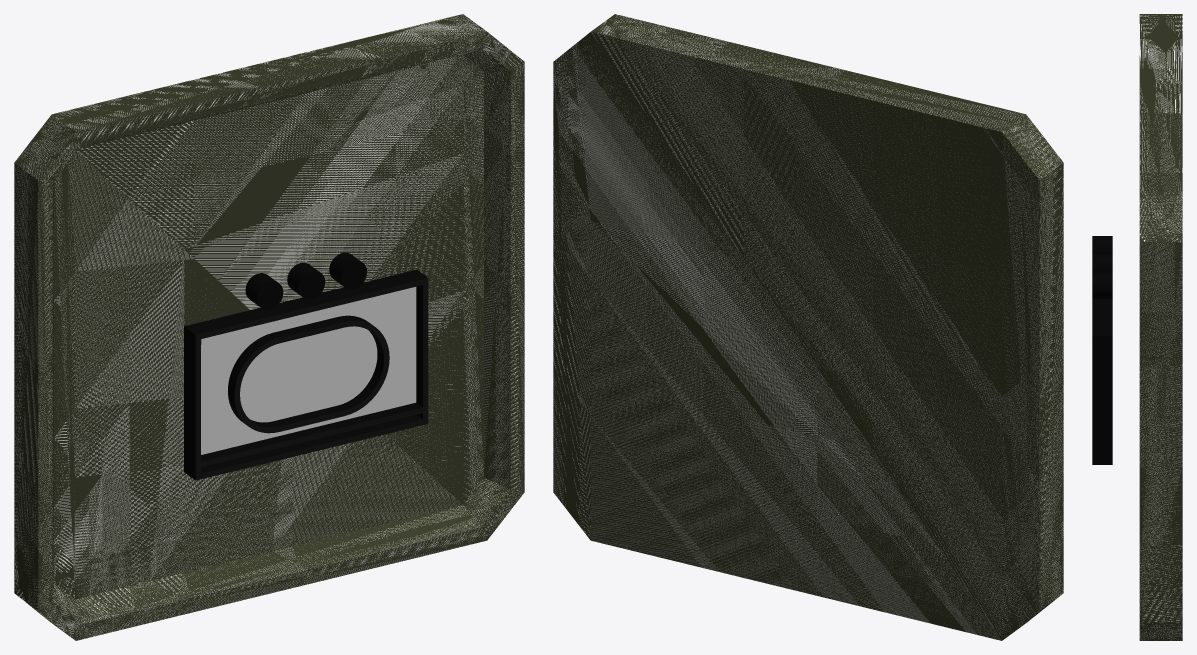
File: ORBAT_-_WhiteEye.obj
3 views of the same model, side by side, from view 1: azimuth 30°, elevation 25°; view 2: azimuth 150°, elevation 25°; view 3: azimuth 270°, elevation 25° (orthographic). The views are drawn at different scales.
Parts seen in each view (by area): view 1: Button.001_ID13, Button_ID3, SM_ORBAT_-_WhiteEye_path1763-2.117; view 2: Button_ID3; view 3: Button_ID3, SM_ORBAT_-_WhiteEye_path1763-2.117.
Boxes of the visible parts, x1,y1,x2,y2 form: Button.001_ID13: (52,48,510,624); Button_ID3: (14,14,524,640); SM_ORBAT_-_WhiteEye_path1763-2.117: (184,252,428,480); Button_ID3: (553,14,1063,640); Button_ID3: (1139,14,1182,640); SM_ORBAT_-_WhiteEye_path1763-2.117: (1092,236,1112,464).
Bounding box in the file's own units: 1 × 1 × 0.1819.
